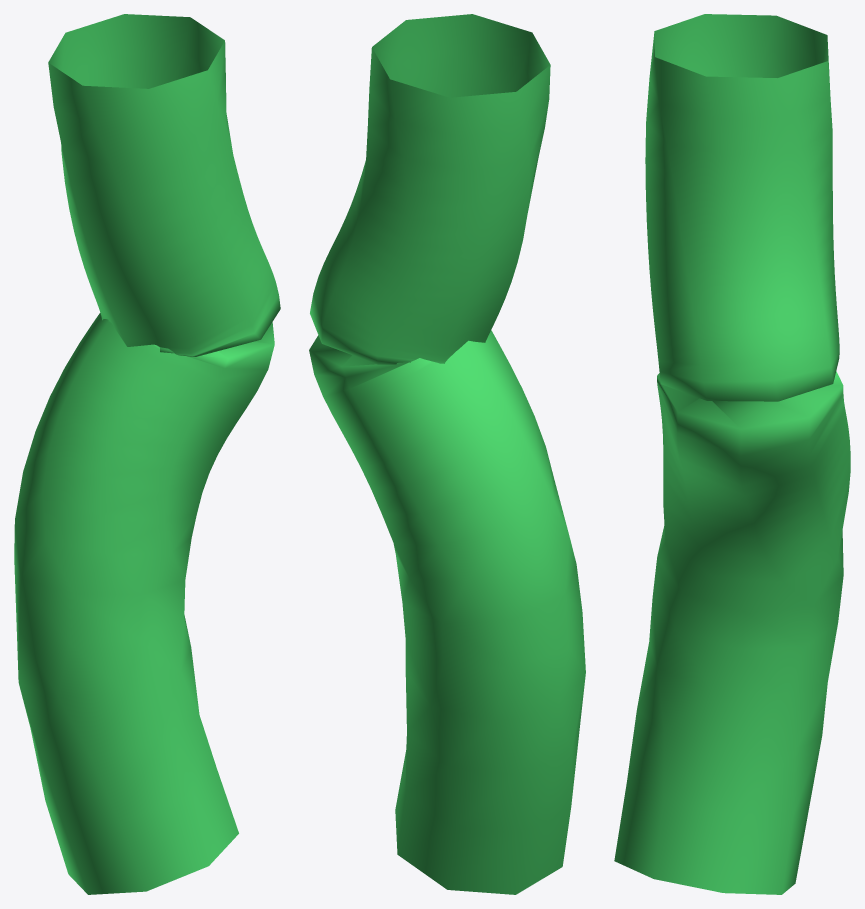
File: New Game Object.obj
3 renders of one model, left to right at view 1: azimuth 30°, elevation 25°; view 2: azimuth 150°, elevation 25°; view 3: azimuth 270°, elevation 25°, orthographic. The views are drawn at different scales.
Visible parts, largest first — view 1: New Game Object; view 2: New Game Object; view 3: New Game Object.
Part boxes in pixels (<box>): New Game Object: <box>14,14,280,894</box>; New Game Object: <box>309,14,585,894</box>; New Game Object: <box>614,14,850,894</box>.
Size of the model in its own units: 1.6 by 5.05 by 1.26.
